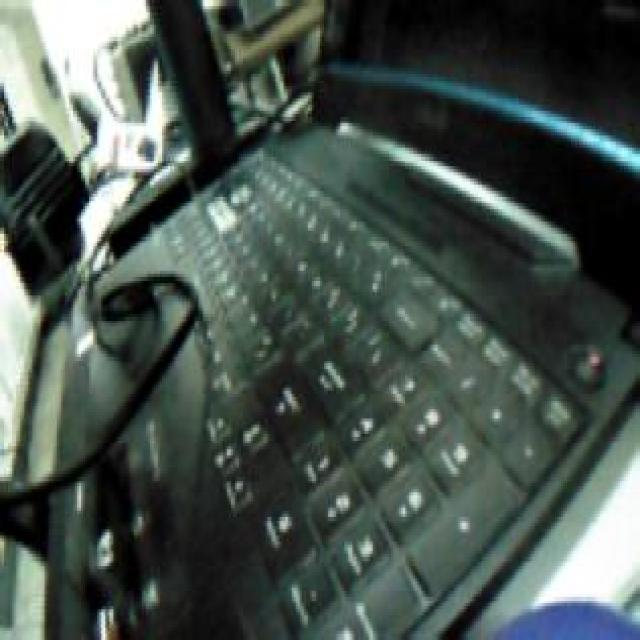BallPurple: (483, 597, 640, 639)
